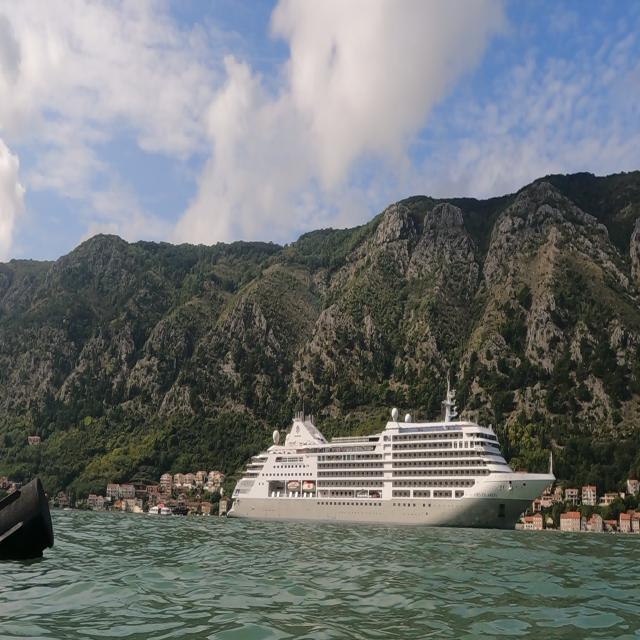boat: (224, 371, 556, 531)
buoy: (0, 451, 63, 576)
